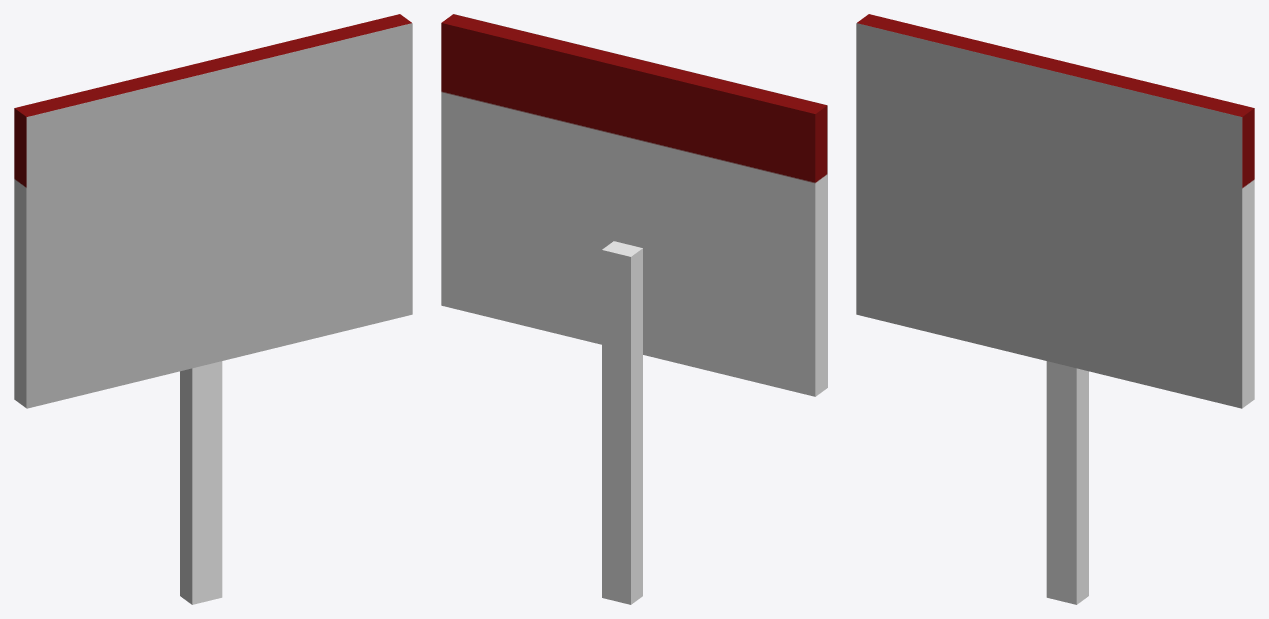
File: warningsign.fbx
3 views of the same model, side by side, from view 1: azimuth 30°, elevation 25°; view 2: azimuth 150°, elevation 25°; view 3: azimuth 330°, elevation 25° (orthographic). The views are drawn at different scales.
Parts seen in each view (by area): view 1: Plane001, Box002; view 2: Box002; view 3: Plane001, Box002.
Part boxes in pixels (x1,y1,x2,y2): Plane001: [27, 23, 412, 408]; Box002: [14, 14, 411, 604]; Box002: [441, 14, 827, 604]; Plane001: [856, 23, 1241, 408]; Box002: [857, 14, 1254, 604].
Bounding box in the file's own units: 90 × 10.06 × 120.
